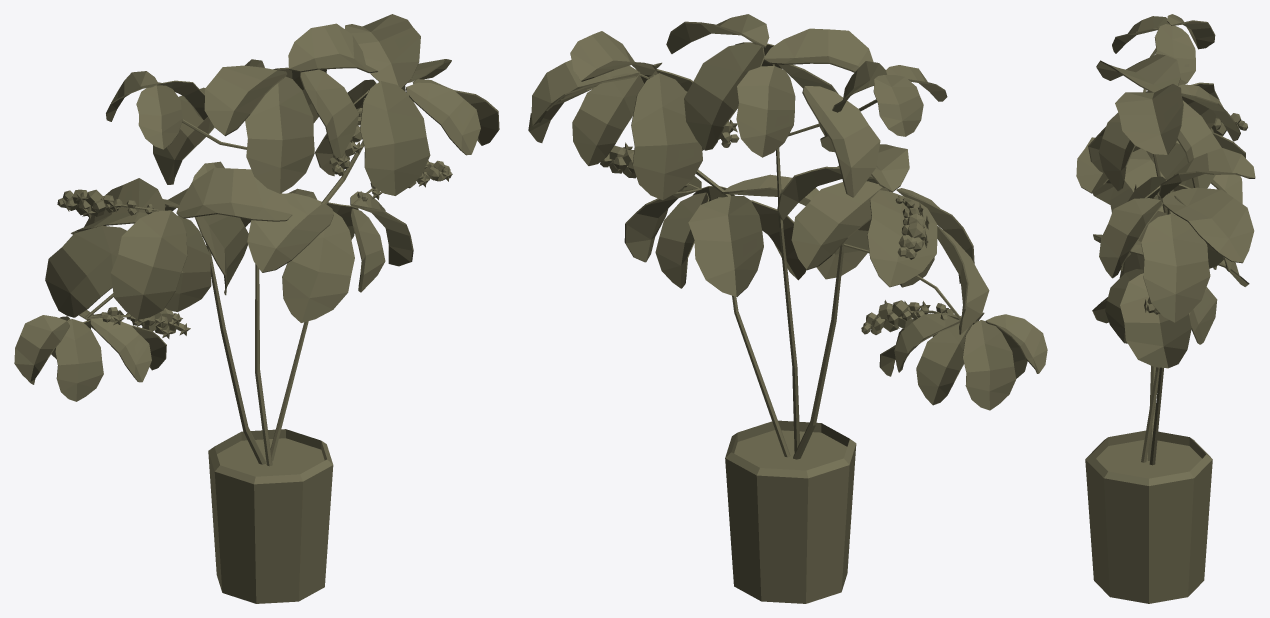
File: coffee_plant.glb
3 views of the same model, side by side, from view 1: azimuth 30°, elevation 25°; view 2: azimuth 150°, elevation 25°; view 3: azimuth 270°, elevation 25° (orthographic). The views are drawn at different scales.
Visible parts, largest first — view 1: Null_1; view 2: Null_1; view 3: Null_1.
Boxes of the visible parts, x1=… form: Null_1: x1=14, y1=14, x2=499, y2=603; Null_1: x1=528, y1=14, x2=1047, y2=603; Null_1: x1=1076, y1=14, x2=1255, y2=603.
Bounding box in the file's own units: 3.6 × 3.82 × 1.19.
1 material, 1 textured.
